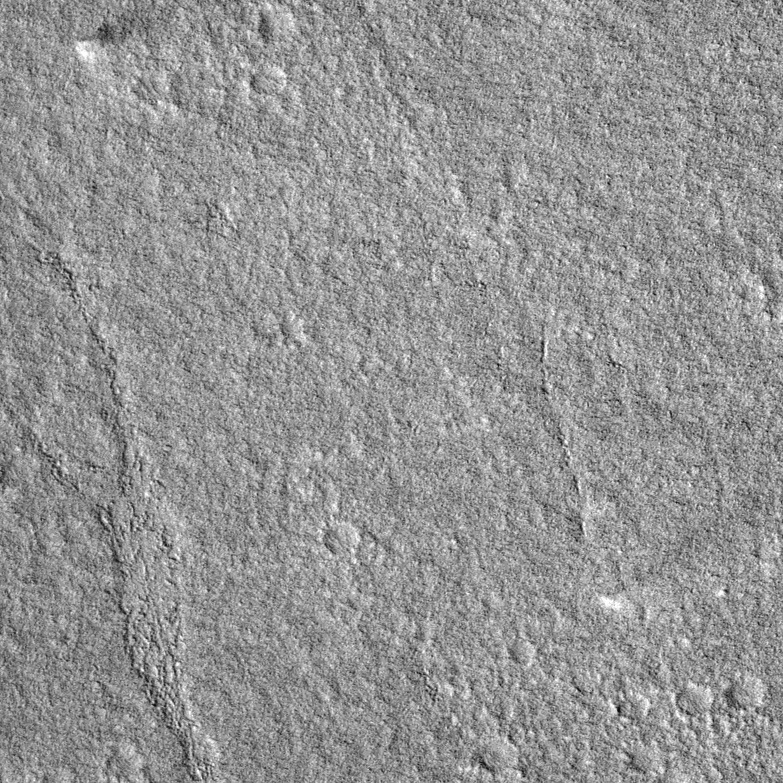dust_devil: (592, 528, 710, 615), (69, 12, 151, 68)
